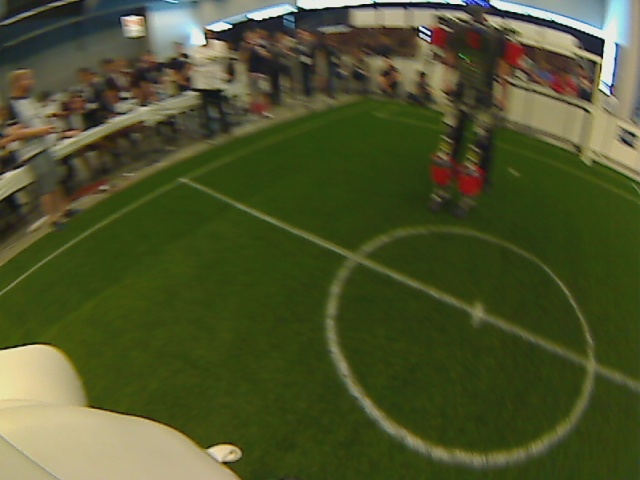goalpost: (571, 137, 601, 175), (430, 92, 453, 117)
robot: (418, 175, 486, 230)
